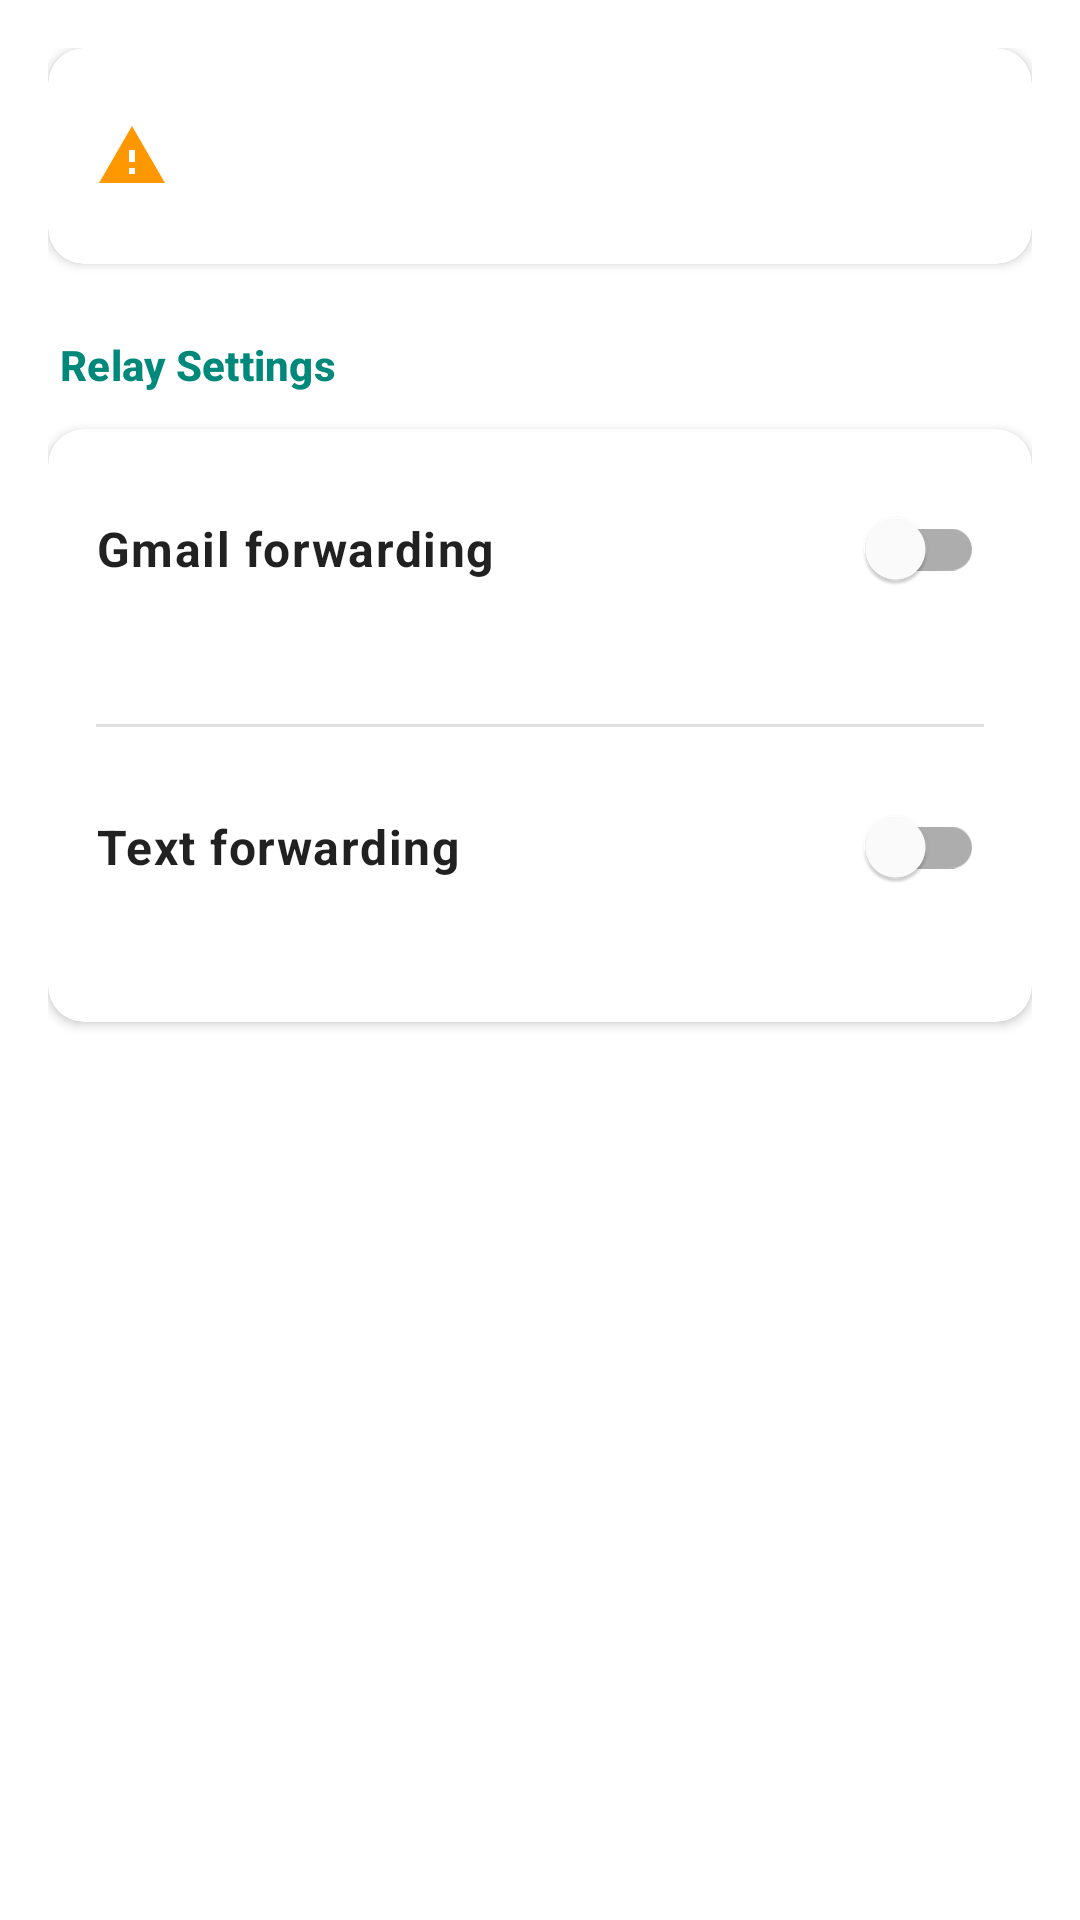

Icons on this 1080 × 1920 Android screen, each with the point to tap as (x=x, y=y):
status error: (x=132, y=154)
